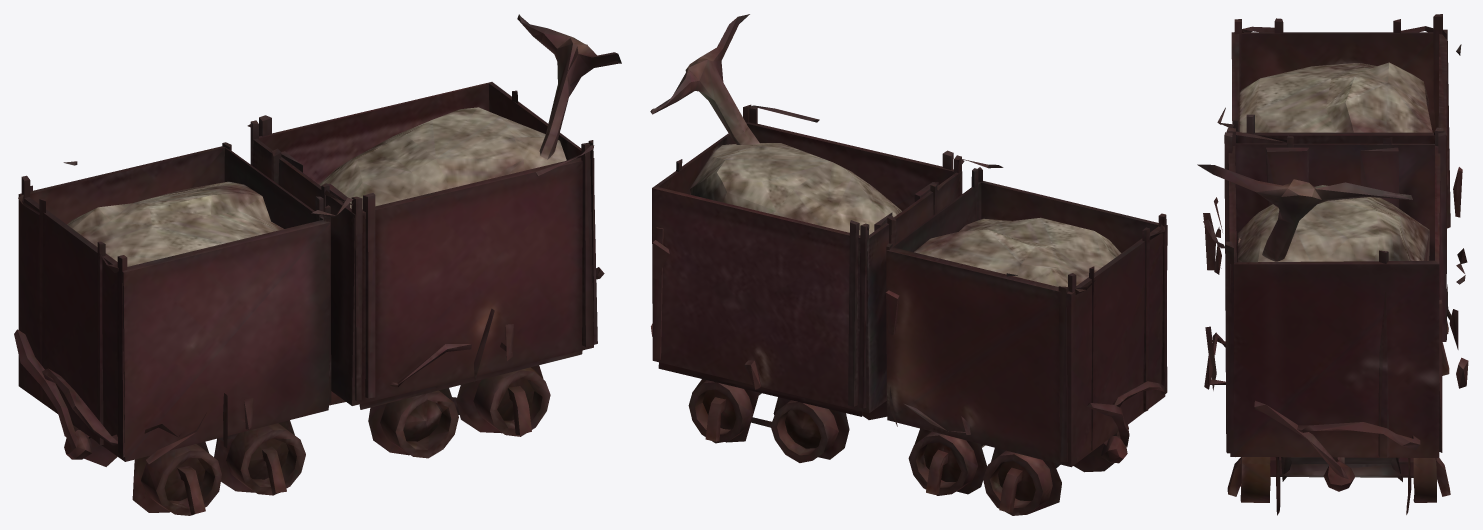
Rendered from railcar.glb.
3 views of the same model, side by side, from view 1: azimuth 30°, elevation 25°; view 2: azimuth 150°, elevation 25°; view 3: azimuth 270°, elevation 25° (orthographic). The views are drawn at different scales.
Parts seen in each view (by area): view 1: main, wheels, pickaxe; view 2: main, wheels, pickaxe; view 3: main, wheels, pickaxe.
Part boxes in pixels (x1,y1,x2,y2): main: (14, 82, 604, 463); wheels: (63, 365, 550, 515); pickaxe: (517, 14, 621, 159); main: (651, 104, 1167, 468); wheels: (688, 379, 1128, 515); pickaxe: (650, 14, 759, 144); main: (1203, 14, 1468, 481); wheels: (1227, 321, 1450, 515); pickaxe: (1197, 164, 1412, 261).
Size of the model in its own units: 2.13 by 1.5 by 0.9541.
1 material, 1 textured.
